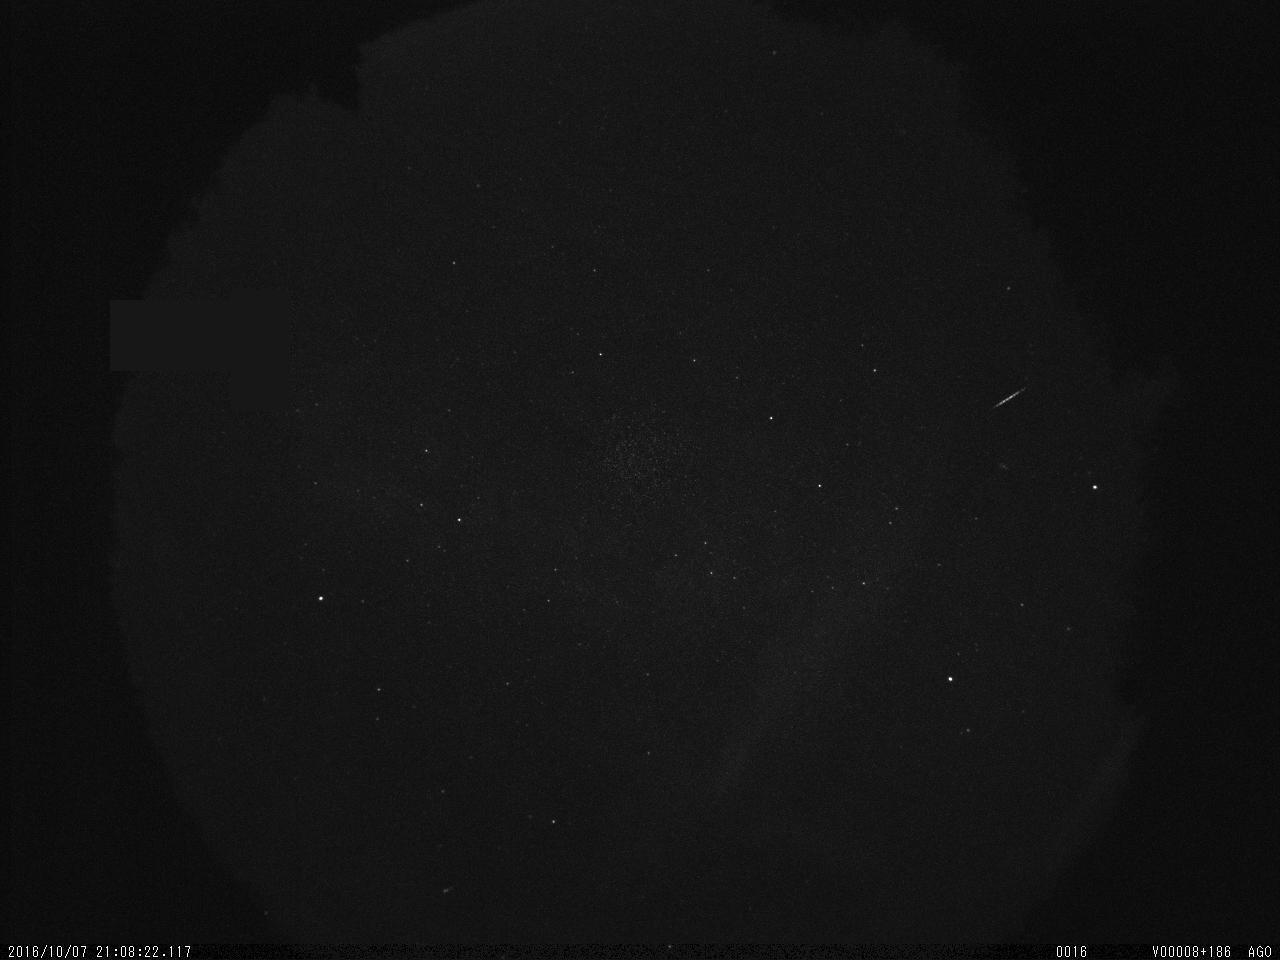Meteor: (987, 376, 1034, 416)
